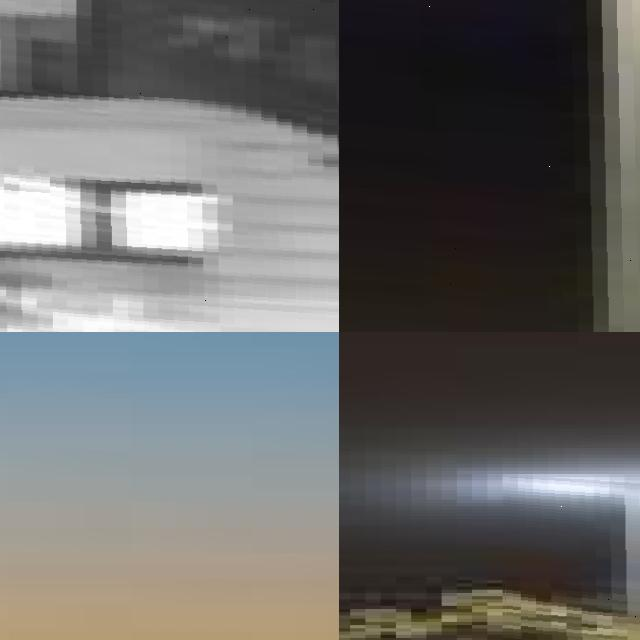street light: (0, 0, 339, 332), (339, 0, 640, 332), (502, 474, 640, 640)
